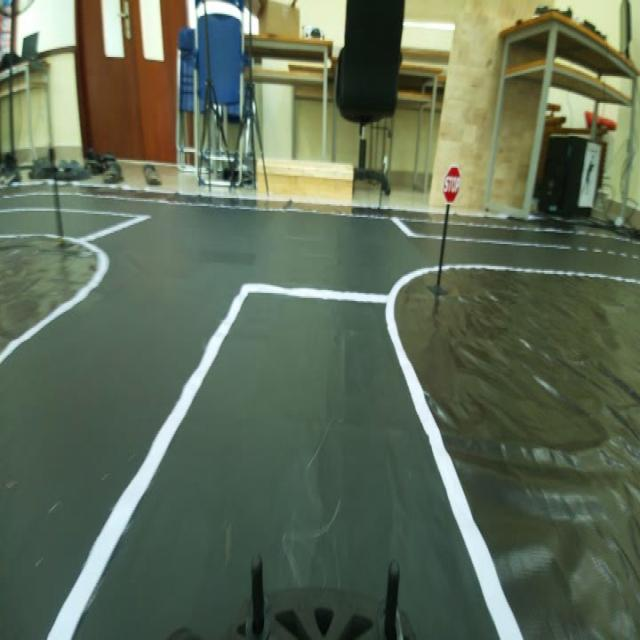stop: (440, 159, 464, 204)
